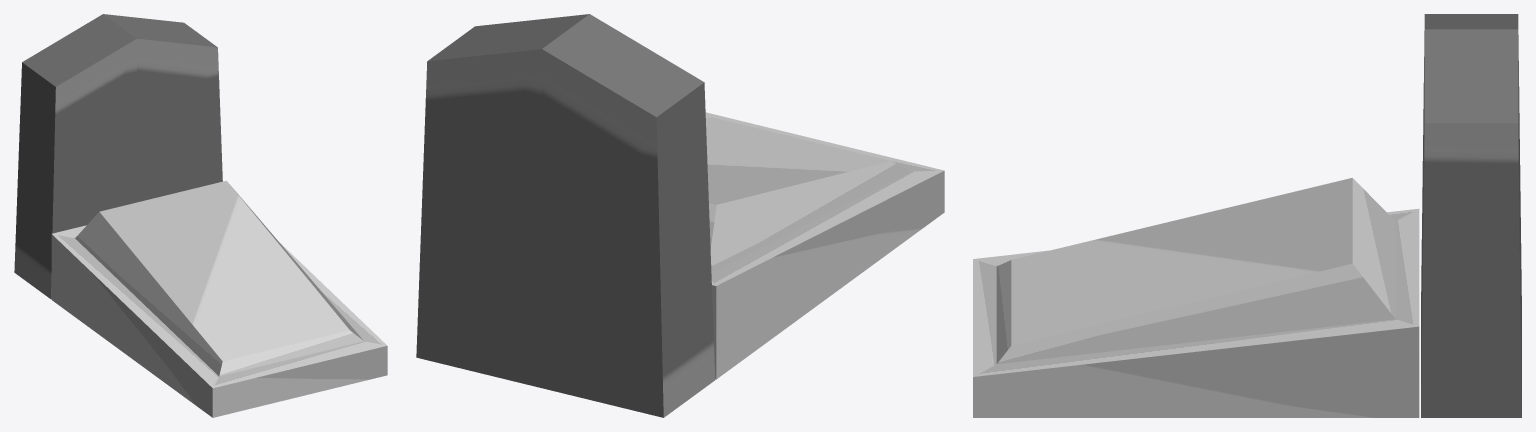
File: Tum_Lap.fbx
3 renders of one model, left to right at view 1: azimuth 30°, elevation 25°; view 2: azimuth 150°, elevation 25°; view 3: azimuth 270°, elevation 25°, orthographic. The views are drawn at different scales.
Parts seen in each view (by area): view 1: Tum&Lap; view 2: Tum&Lap; view 3: Tum&Lap.
Part boxes in pixels (x1=…): Tum&Lap: x1=14, y1=14, x2=387, y2=417; Tum&Lap: x1=416, y1=14, x2=944, y2=417; Tum&Lap: x1=973, y1=14, x2=1521, y2=417.
Bounding box in the file's own units: 79.56 × 104 × 156.
